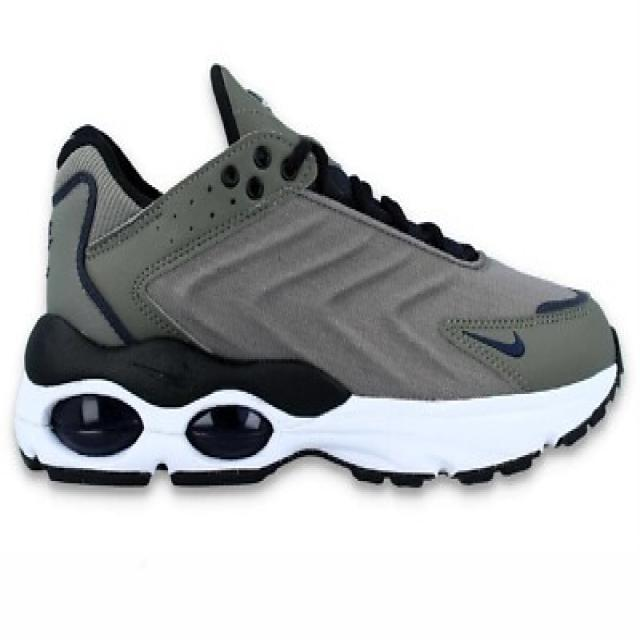nike: (462, 314, 534, 371)
